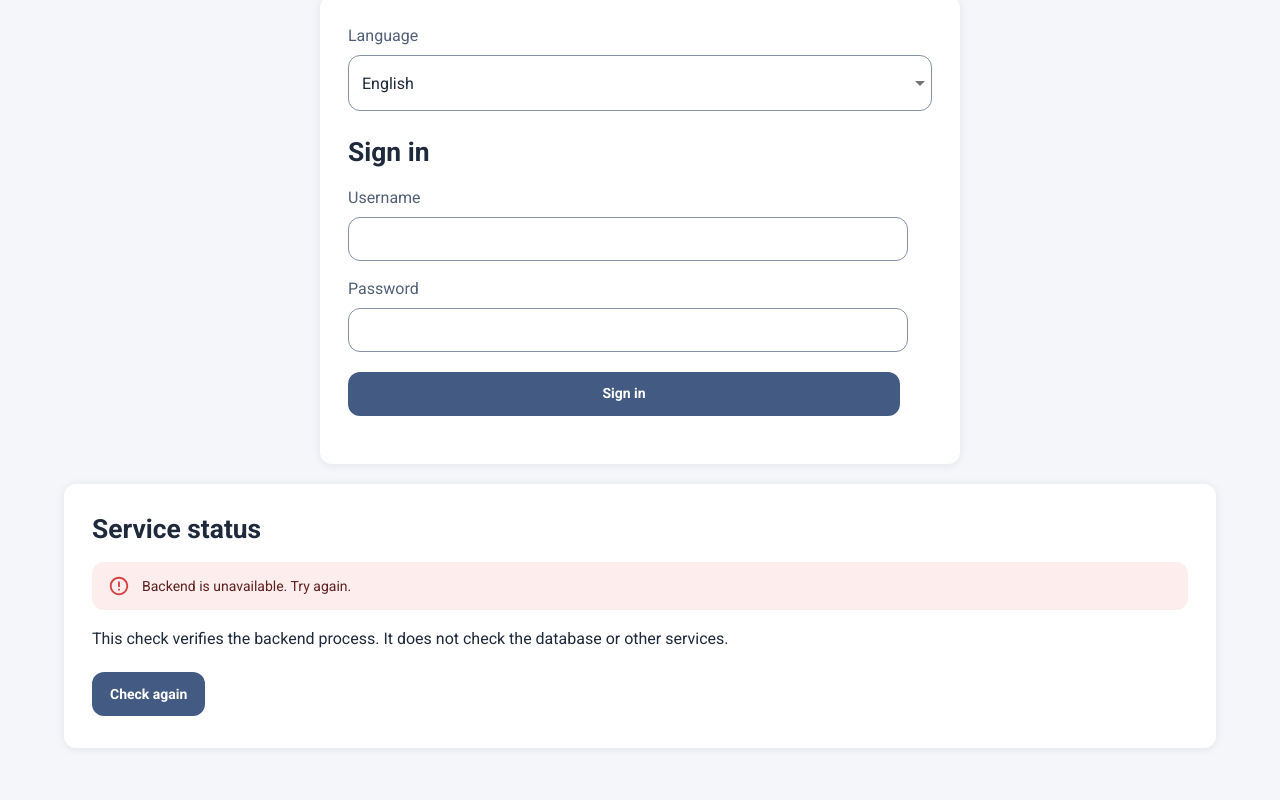
Test: shows failure and recovers on explicit retry
The width and height of the screenshot is (1280, 800).
(page scrolled)
Expected: the message shows "Backend is unavailable", [142,578,351,594]
Click the button "Check again". click: x=149, y=694
box: [92,672,205,716]
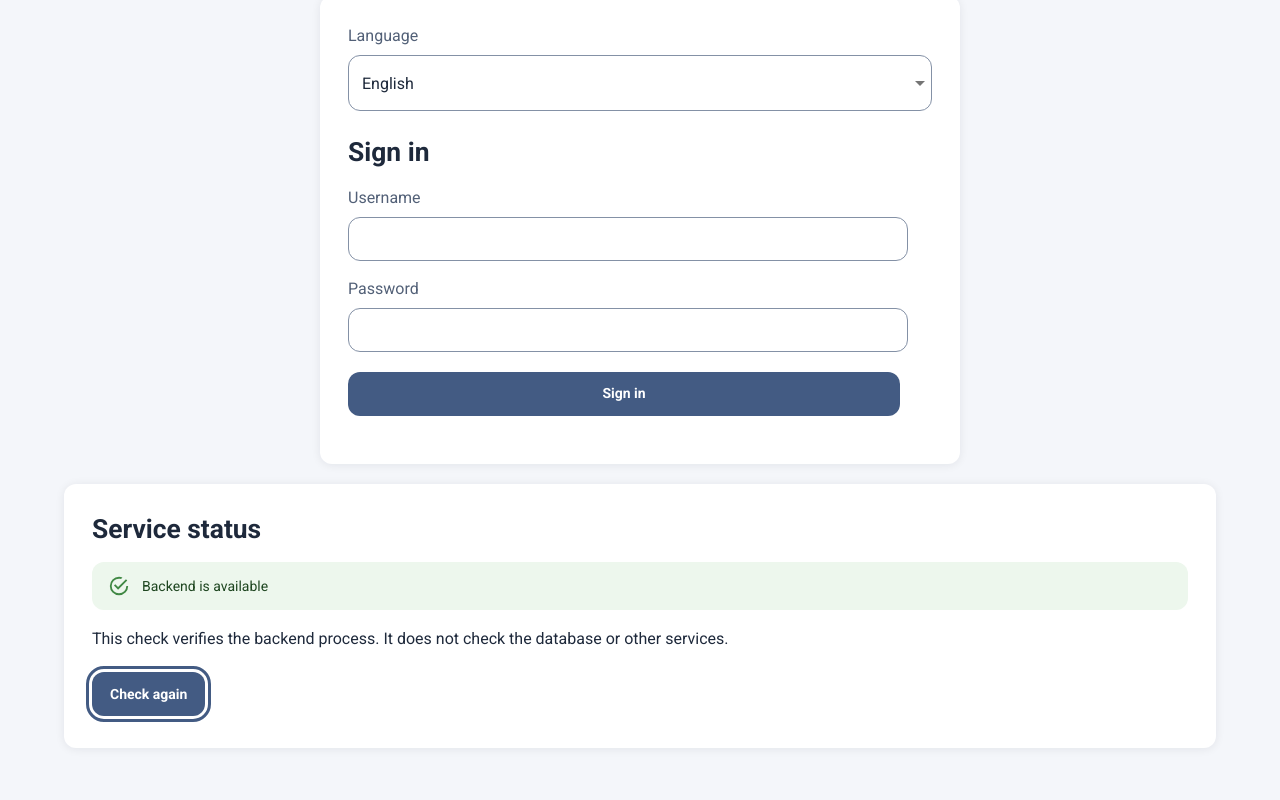
Result: the text "Backend is available" is shown at [142,578,268,594]
